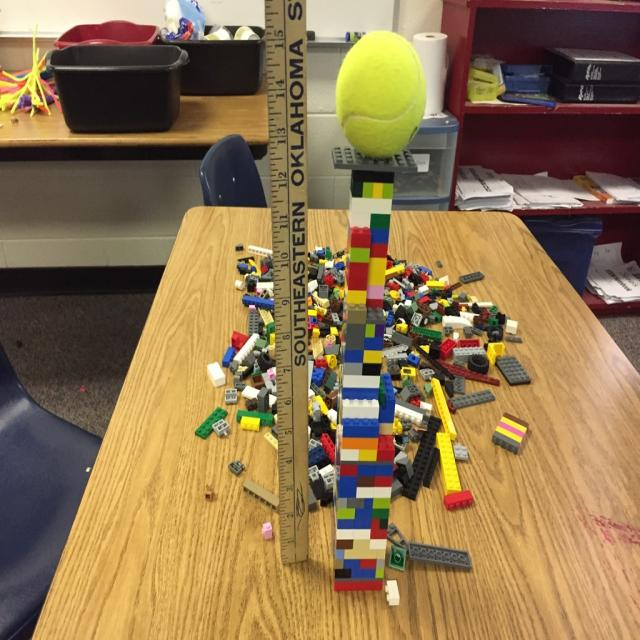Tennis ball: (329, 27, 429, 156)
